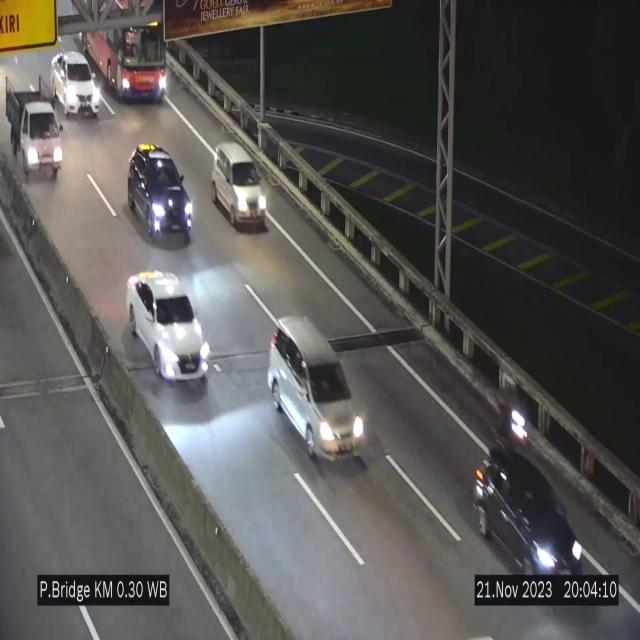Car: (267, 318, 369, 468), (476, 447, 586, 579), (127, 271, 210, 384), (125, 143, 193, 245), (211, 143, 267, 228), (50, 52, 100, 116)
Motorcycle: (497, 374, 529, 470)
Truck: (6, 74, 66, 182)
